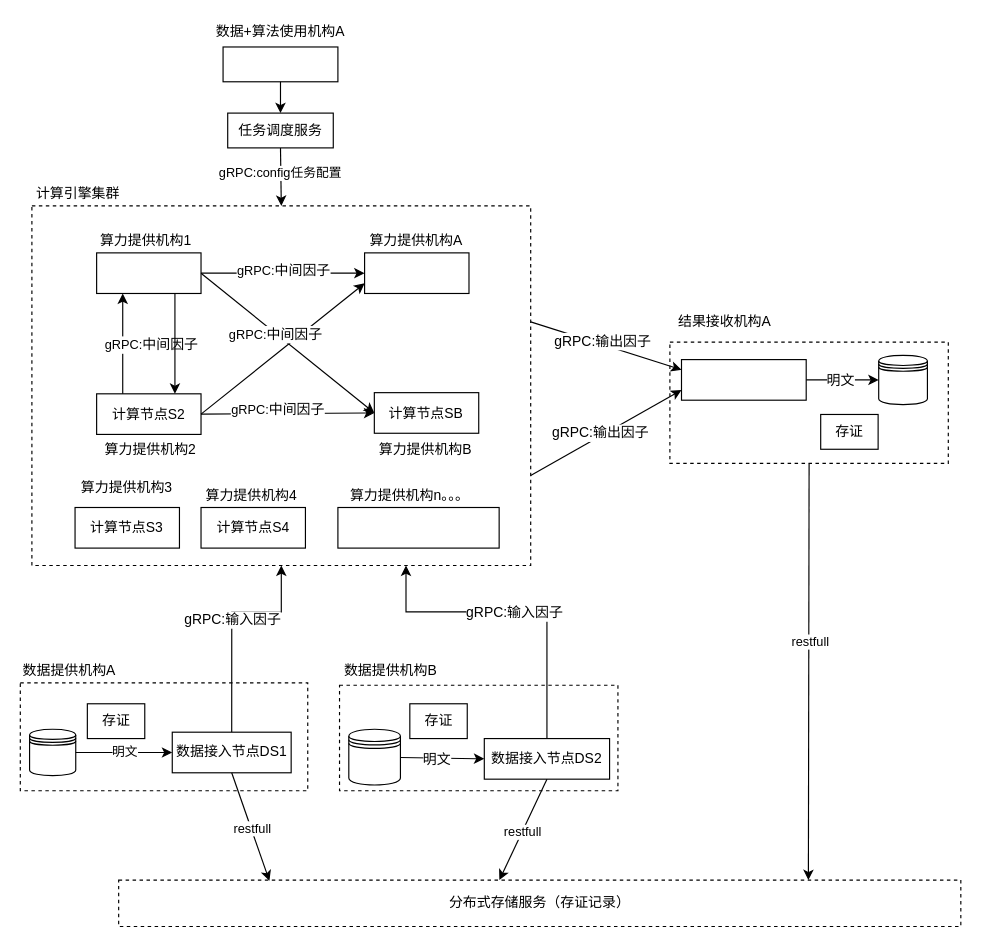
This 981x947 diagram has some shape labels left out. Here are the shapes that lost their labels. From the top down, the centre of each, then its label:
point (280, 64): 查询请求发起方
point (148, 272): 计算节点S1
point (416, 272): 计算节点SA
point (743, 379): 数据输出节点
point (418, 527): 机构Sn。。。
